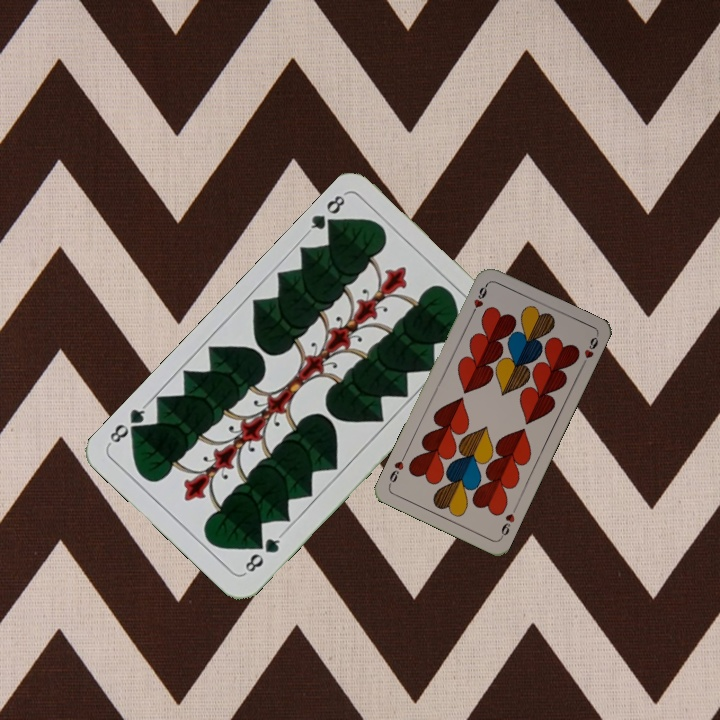G8: (240, 530, 285, 577), (302, 191, 348, 236)
H9: (496, 503, 519, 541), (467, 280, 490, 318)
